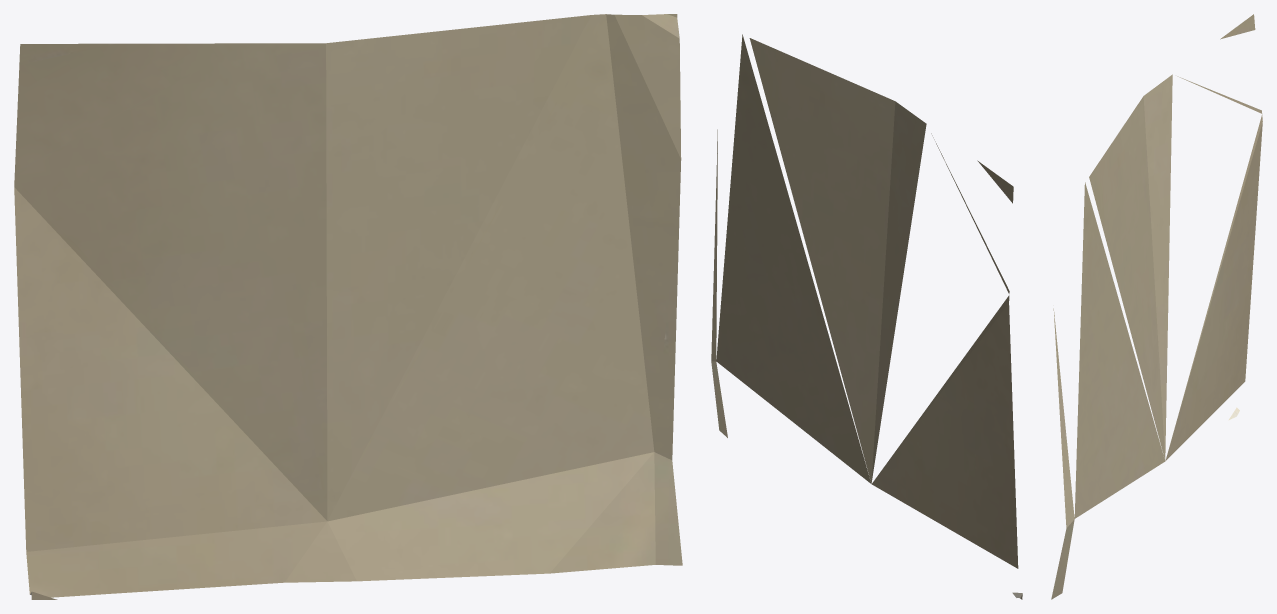
The picture shows the model from 3 angles, left to right: view 1: azimuth 30°, elevation 25°; view 2: azimuth 150°, elevation 25°; view 3: azimuth 270°, elevation 25°; orthographic projection. The views are drawn at different scales.
Bounding box in the file's own units: 0.8373 × 0.8373 × 0.402.
3 materials, 3 textured.
